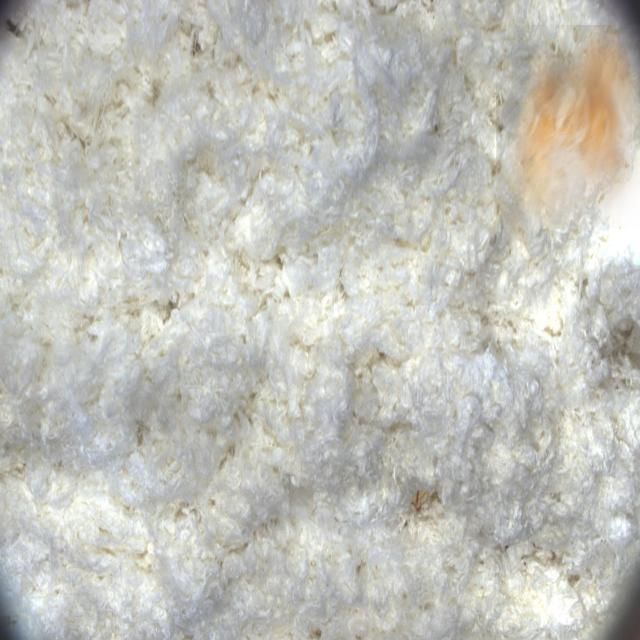dust: (496, 25, 640, 229)
